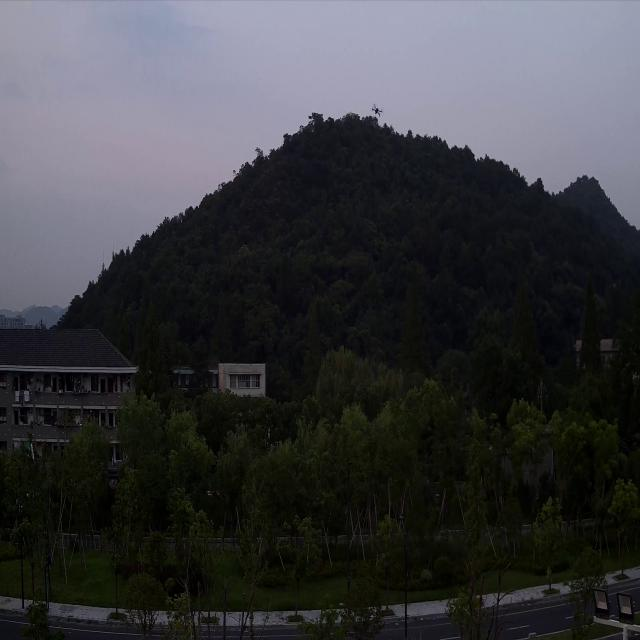drone: (372, 104, 382, 118)
